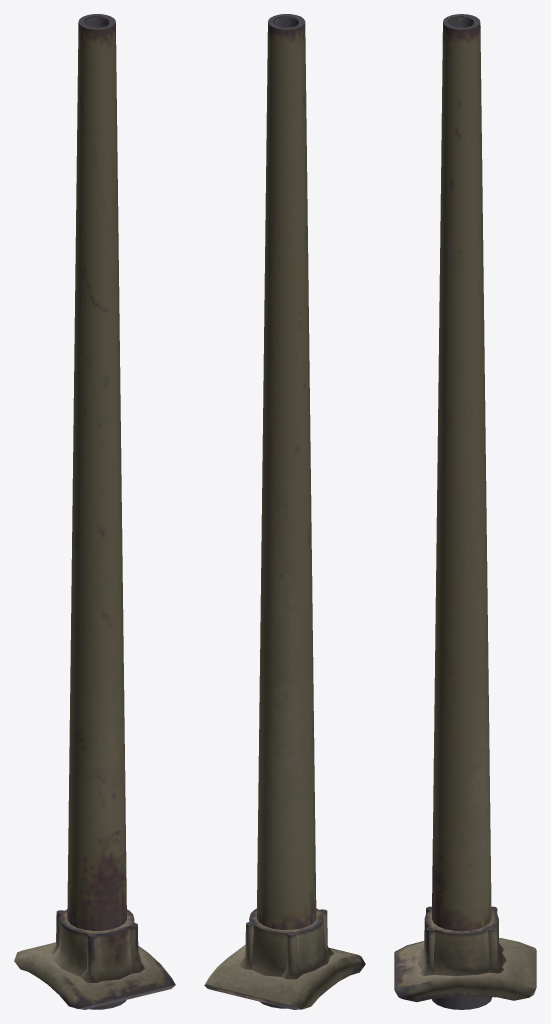
Rendered from Gun_01.glb.
3 renders of one model, left to right at view 1: azimuth 30°, elevation 25°; view 2: azimuth 150°, elevation 25°; view 3: azimuth 270°, elevation 25°, orthographic.
Parts seen in each view (by area): view 1: set_0_group_0; view 2: set_0_group_0; view 3: set_0_group_0.
Part boxes in pixels (<box>): set_0_group_0: <box>14,14,175,1009</box>; set_0_group_0: <box>204,14,365,1009</box>; set_0_group_0: <box>394,14,536,1009</box>.
Bounding box in the file's own units: 0.3274 × 3.02 × 0.4004.
Materials: 1 (1 with a texture image).
